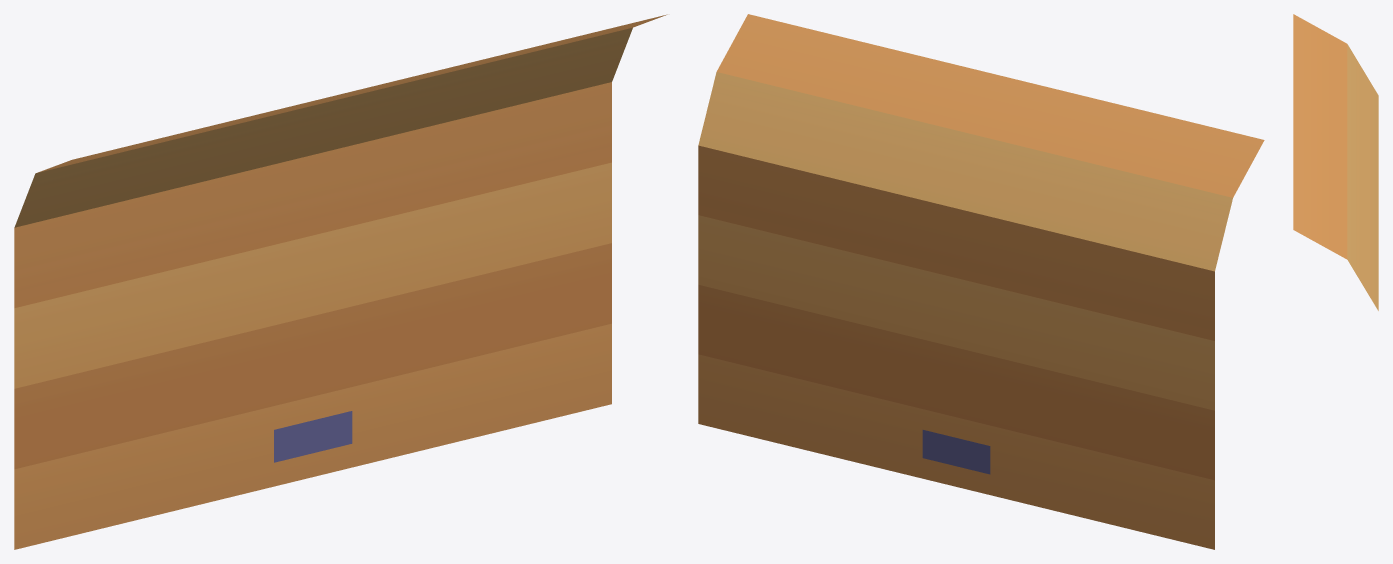
The model's file is kenney-factory-door-wide-half.glb.
3 views of the same model, side by side, from view 1: azimuth 30°, elevation 25°; view 2: azimuth 150°, elevation 25°; view 3: azimuth 270°, elevation 25° (orthographic). The views are drawn at different scales.
Visible parts, largest first — view 1: door-wide-half; view 2: door-wide-half; view 3: door-wide-half.
Part boxes in pixels (x1,y1,x2,y2): door-wide-half: (14, 14, 667, 549); door-wide-half: (698, 14, 1264, 549); door-wide-half: (1293, 14, 1378, 310).
Size of the model in its own units: 1.8 by 1.24 by 0.2999.
1 material, 1 textured.
